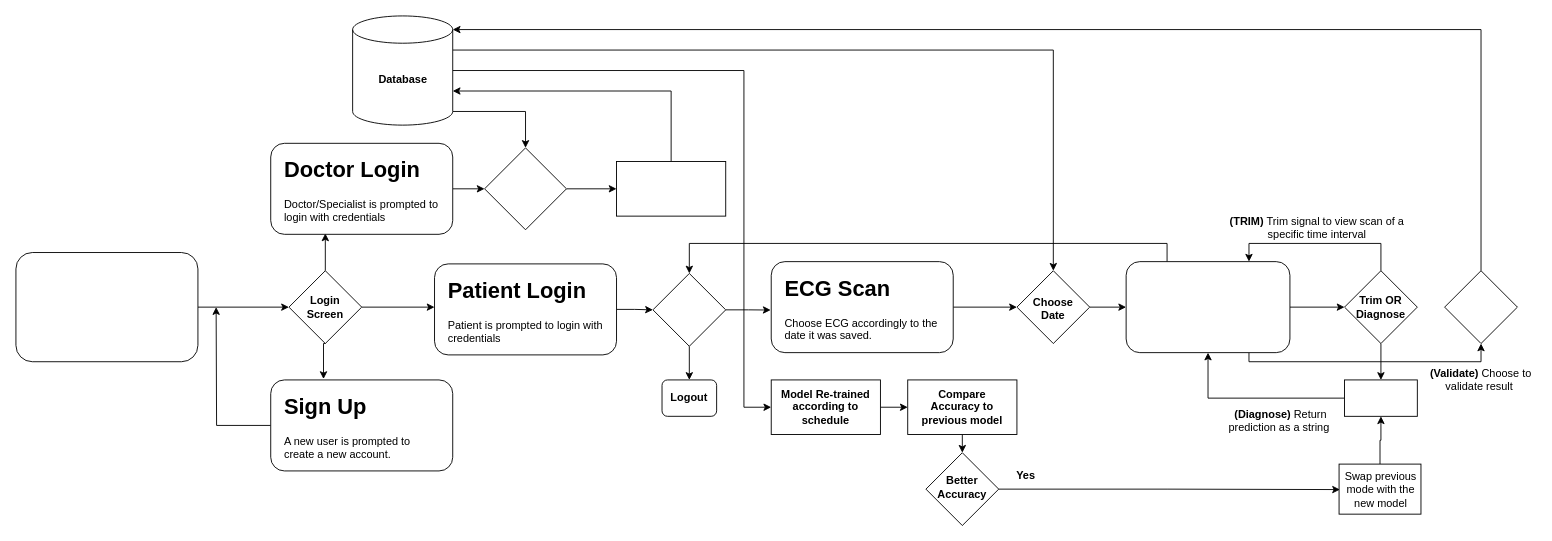
This 1552x541 diagram has some shape labels left out. Here are the shapes that lost their labels. From the top down, the centre of each, then its label:
(525,188): Choose To Validate Scan
(671,188): Validate Generated Result & Update
(106,307): User A user can be both a patient or a doctor.
(689,309): Home
(1207,307): Plot ECG Report (Scan)
(1480,307): Validate
(1380,397): Diagnose
